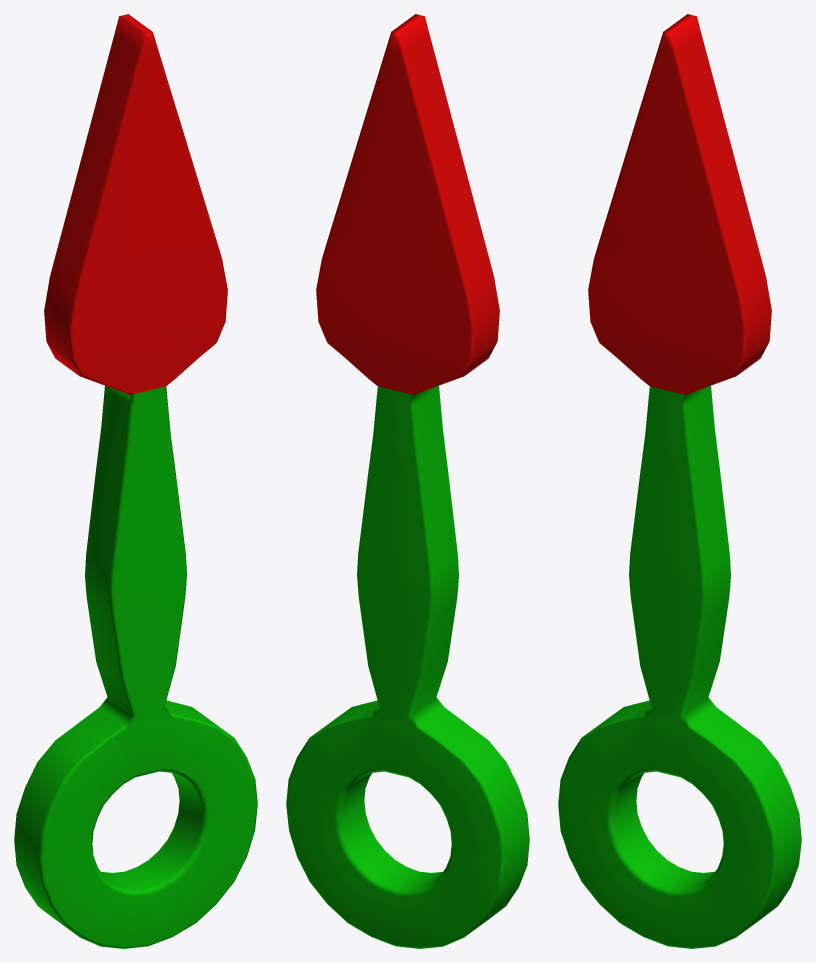
The model's file is HourHand_Test.fbx.
The picture shows the model from 3 angles, left to right: view 1: azimuth 30°, elevation 25°; view 2: azimuth 150°, elevation 25°; view 3: azimuth 330°, elevation 25°; orthographic projection.
Parts seen in each view (by area): view 1: hourhand_low; view 2: hourhand_low; view 3: hourhand_low.
Boxes of the visible parts, box(x1,y1,x2,y2) form: hourhand_low: box(14, 14, 257, 948); hourhand_low: box(286, 14, 529, 948); hourhand_low: box(558, 14, 801, 948).
Bounding box in the file's own units: 251 × 1000 × 55.63.
